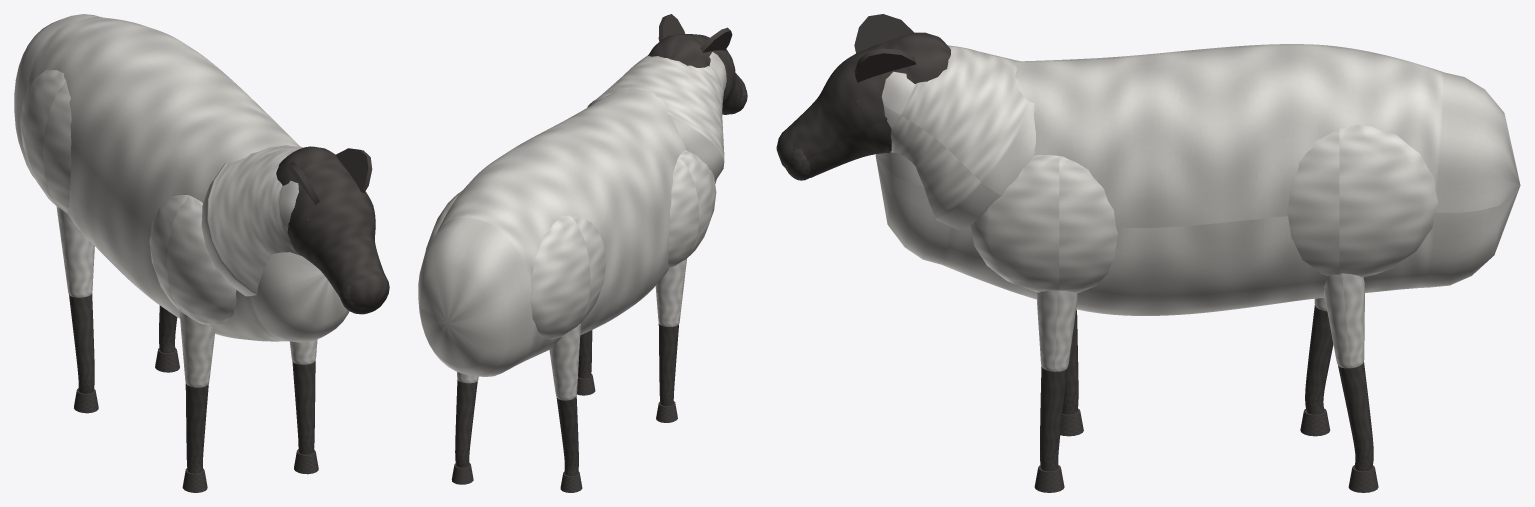
The model's file is farm-and-working-animals-hd-sheep-shorn-ceb1f355__29191.glb.
3 renders of one model, left to right at view 1: azimuth 30°, elevation 25°; view 2: azimuth 150°, elevation 25°; view 3: azimuth 270°, elevation 25°, orthographic. The views are drawn at different scales.
Visible parts, largest first — view 1: sheep-shorn; view 2: sheep-shorn; view 3: sheep-shorn.
Part boxes in pixels (<box>): sheep-shorn: <box>14,14,389,492</box>; sheep-shorn: <box>418,14,747,492</box>; sheep-shorn: <box>776,14,1520,492</box>.
Bounding box in the file's own units: 0.3997 × 0.8592 × 1.36.
Materials: 2 (2 with a texture image).
